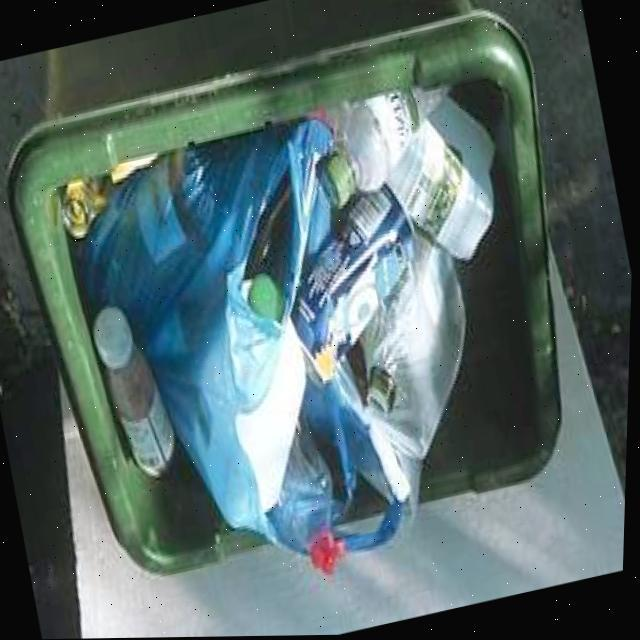Plastic_Bag: (81, 119, 467, 567)
